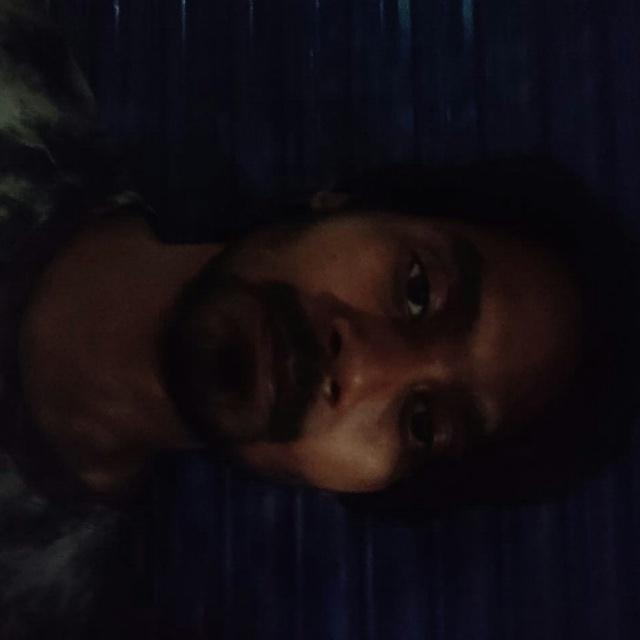Natural: (154, 127, 640, 535)
